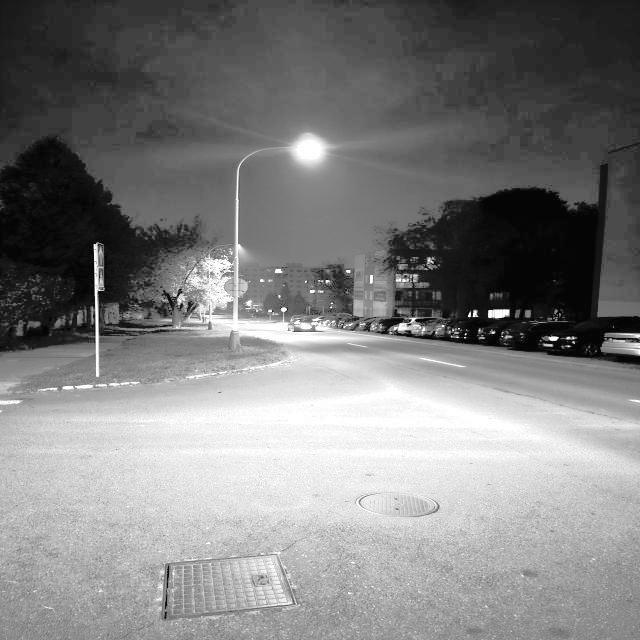Light: (229, 141, 318, 348)
